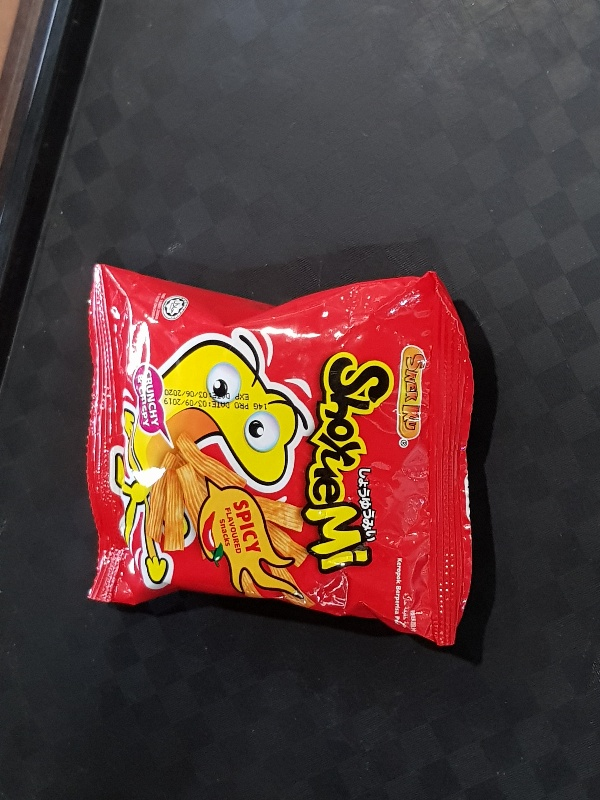ShoyueMi Spicy Flavoured Snacks: (86, 261, 472, 647)
